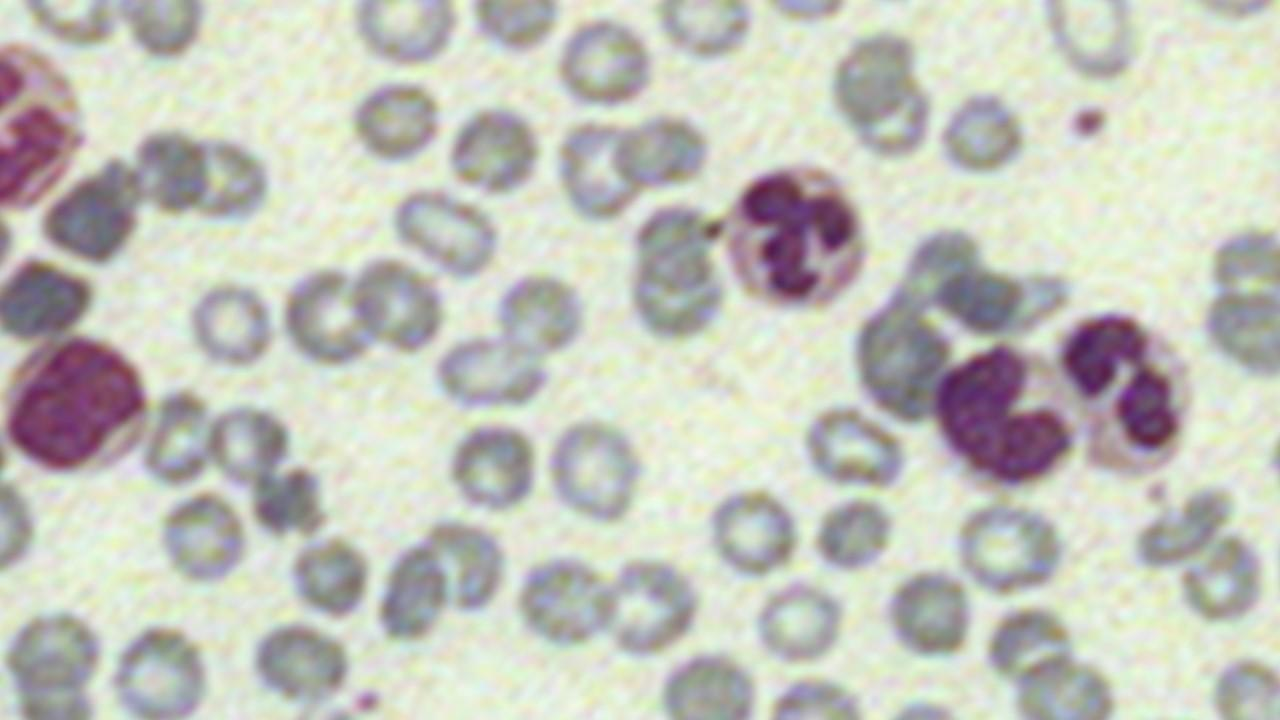RBC: (1056, 305, 1198, 483), (756, 186, 874, 313), (544, 412, 647, 526), (951, 498, 1068, 598), (386, 185, 503, 281), (600, 553, 705, 657), (514, 548, 620, 650), (346, 252, 448, 356), (428, 331, 554, 415), (796, 401, 912, 492), (280, 263, 380, 367), (109, 618, 212, 718), (554, 13, 658, 112), (553, 114, 647, 221), (445, 416, 541, 518), (702, 484, 802, 580), (443, 102, 544, 196), (493, 267, 591, 362), (882, 563, 976, 662), (246, 618, 352, 705), (347, 75, 445, 168), (748, 578, 850, 666), (185, 276, 276, 373), (140, 385, 219, 490), (204, 398, 291, 490), (1008, 651, 1118, 716), (0, 472, 39, 578)
WBC: (927, 341, 1081, 489)
